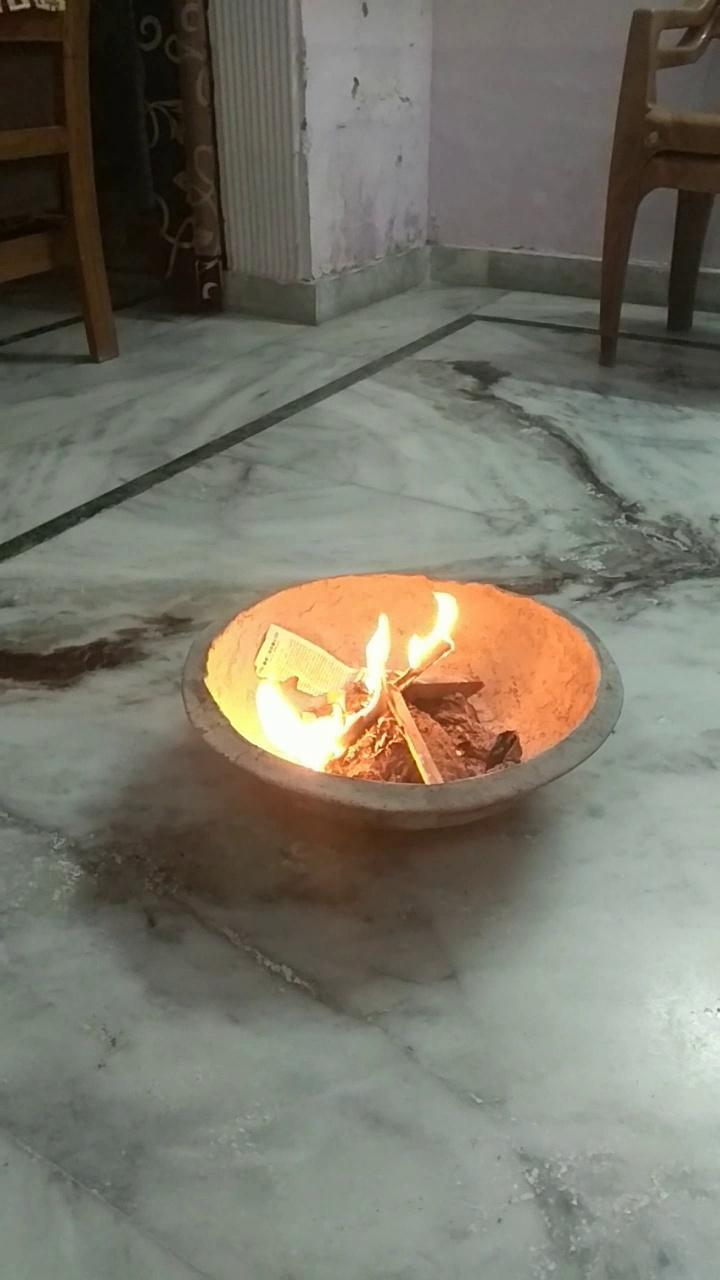fire: (254, 588, 478, 757)
